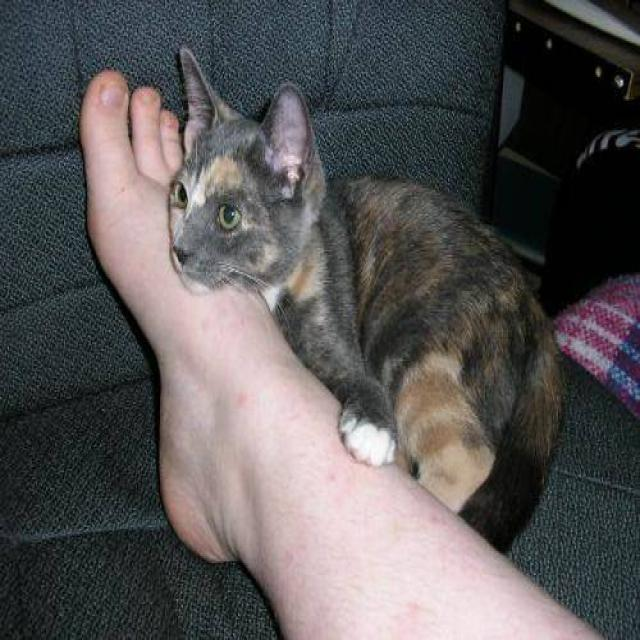cat: (166, 44, 566, 554)
